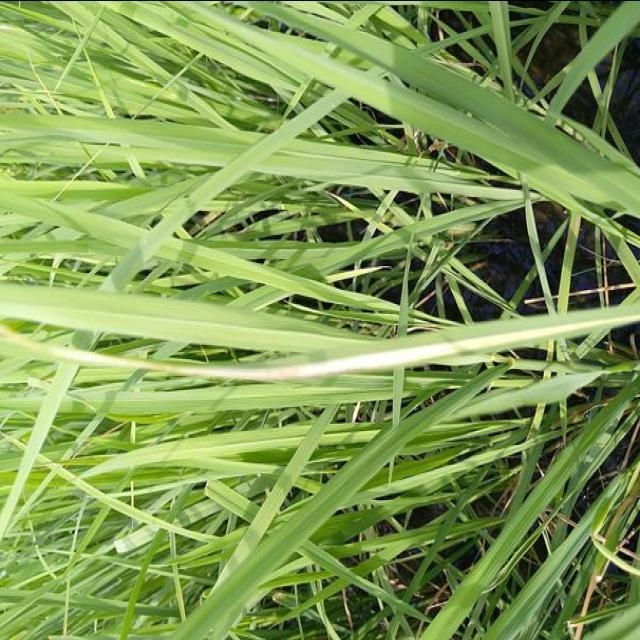Panicle Blight: (0, 302, 640, 379)
